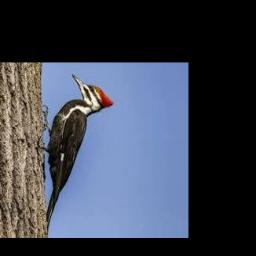Woodpecker: (42, 73, 114, 233)
